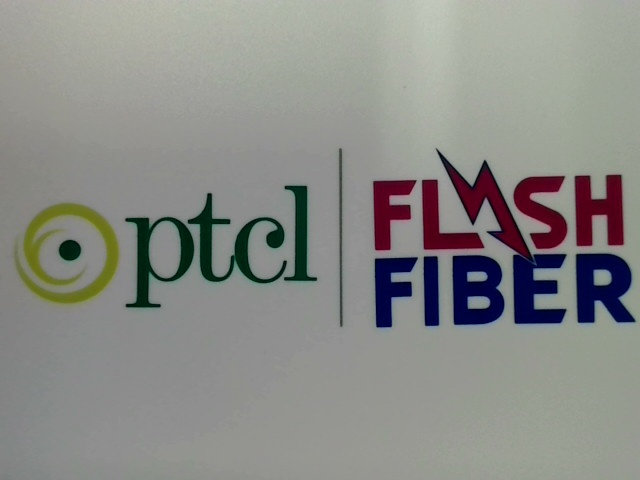BF_PTCL: (6, 180, 321, 310)
